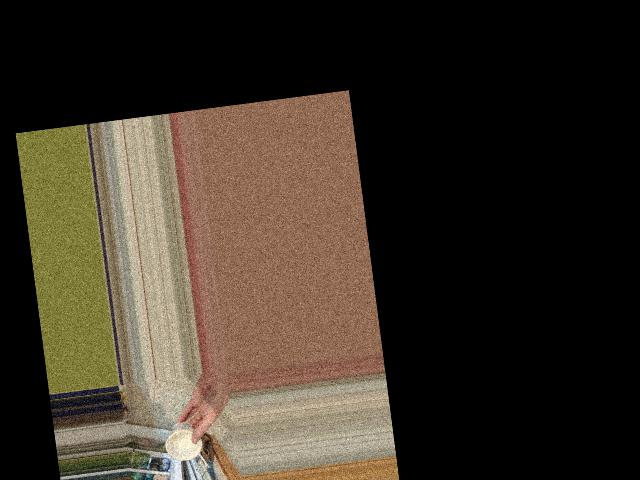cotage: (167, 417, 205, 461)
